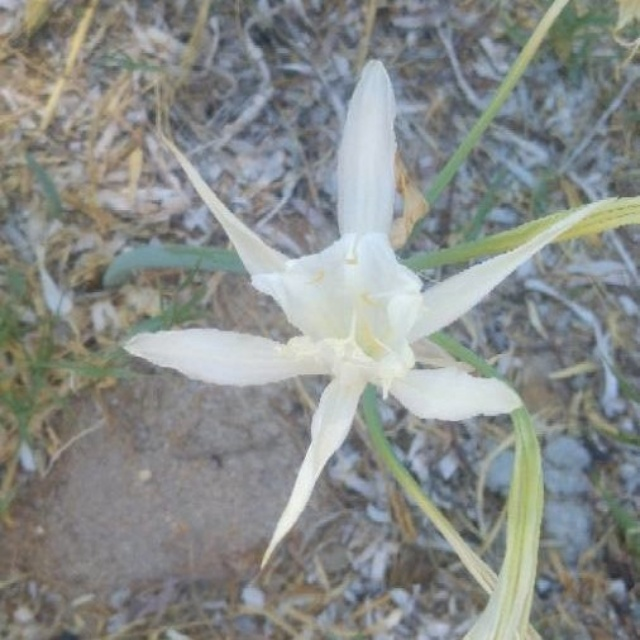obstacle: (109, 61, 586, 608)
